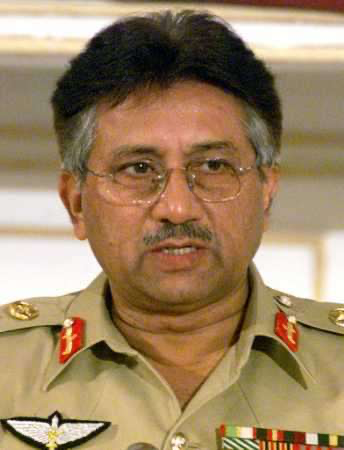Face: (80, 114, 271, 298)
